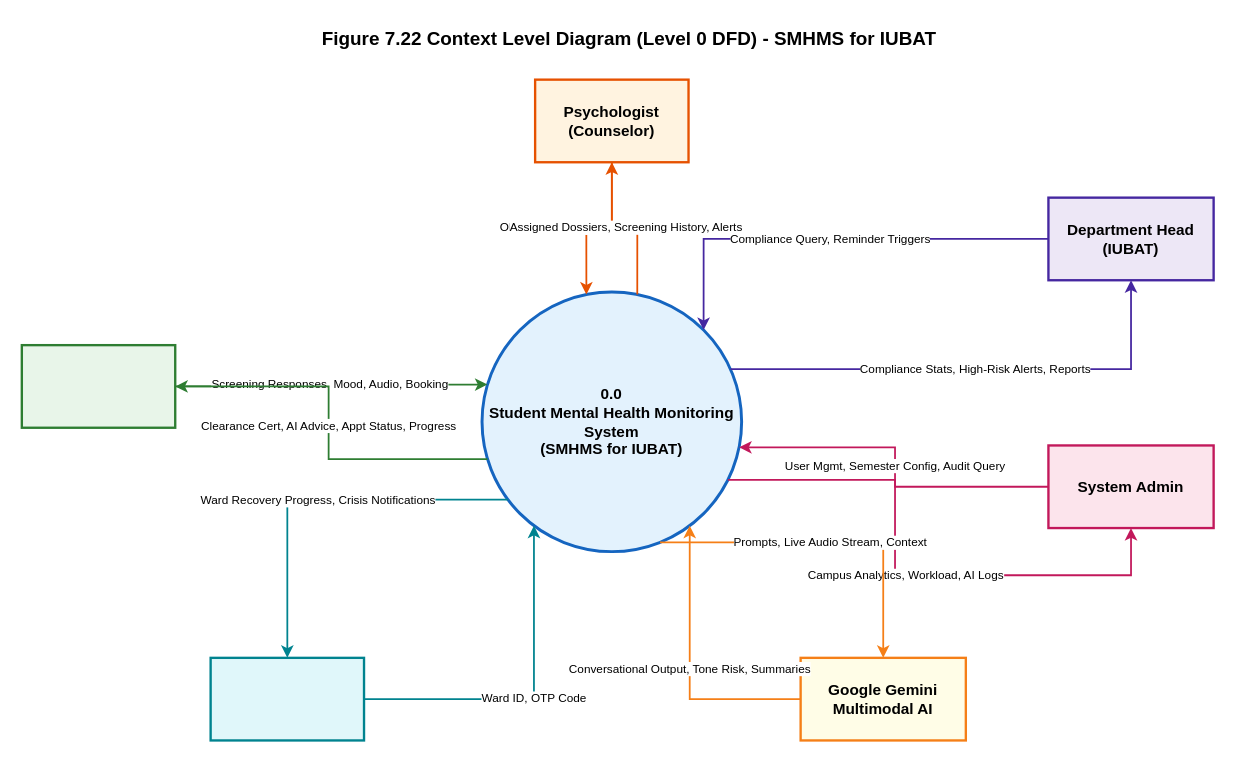
This 1234x761 diagram has some shape labels left out. Here are the shapes that lost their labels. From the top down, the box of each, then its label:
(20, 343, 176, 428): Student
(209, 656, 365, 741): Guardian
